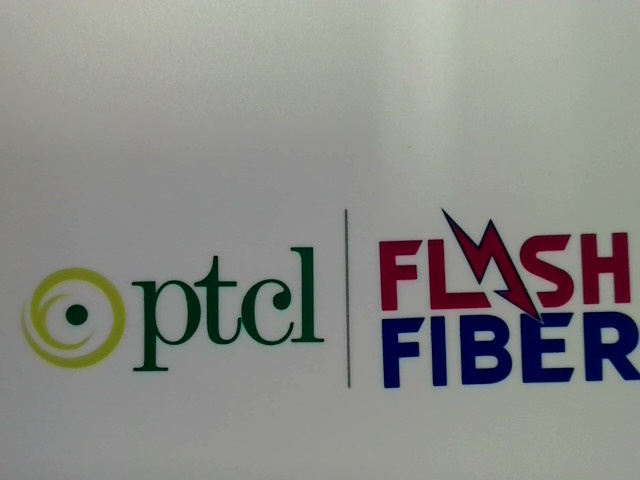BF_PTCL: (14, 237, 339, 390)
